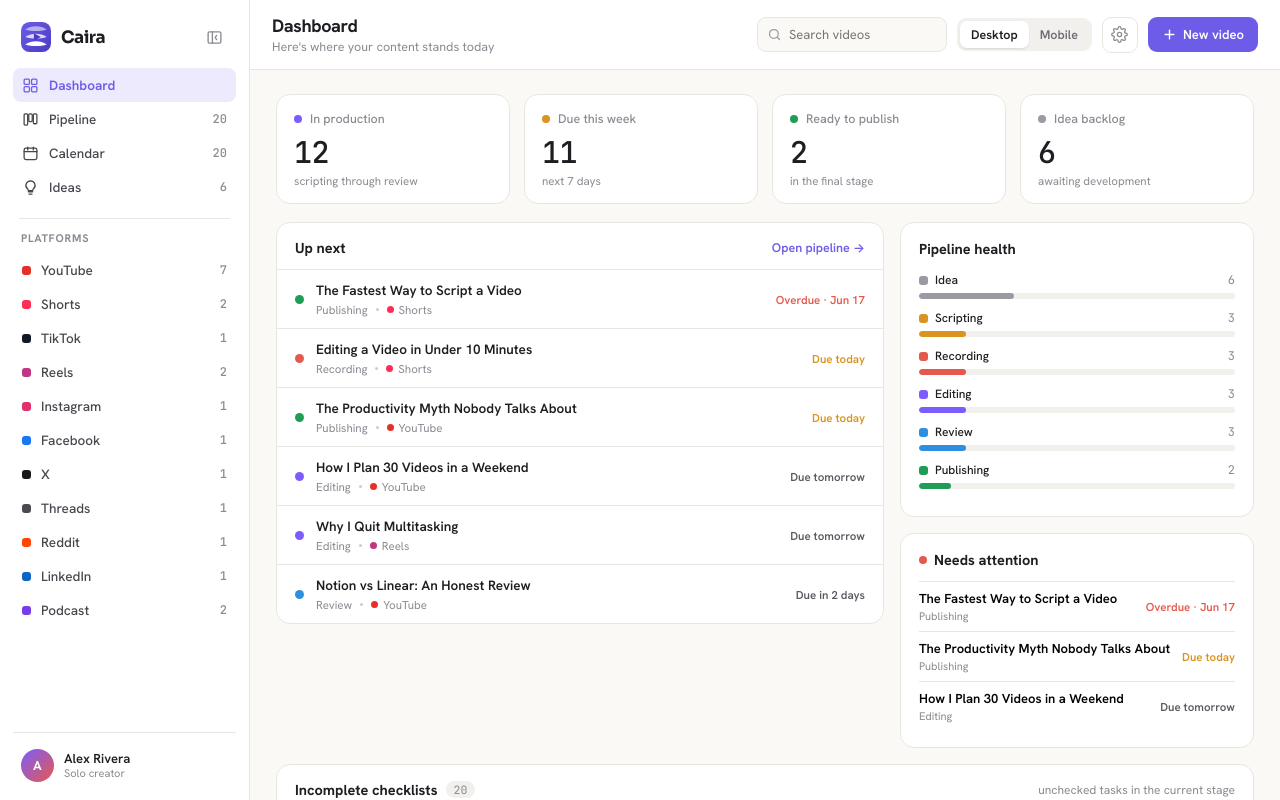
it: a video can be deleted from the detail drawer
Click the button "Ideas 6": (124, 187) top-left (13, 170), bottom-right (236, 204)
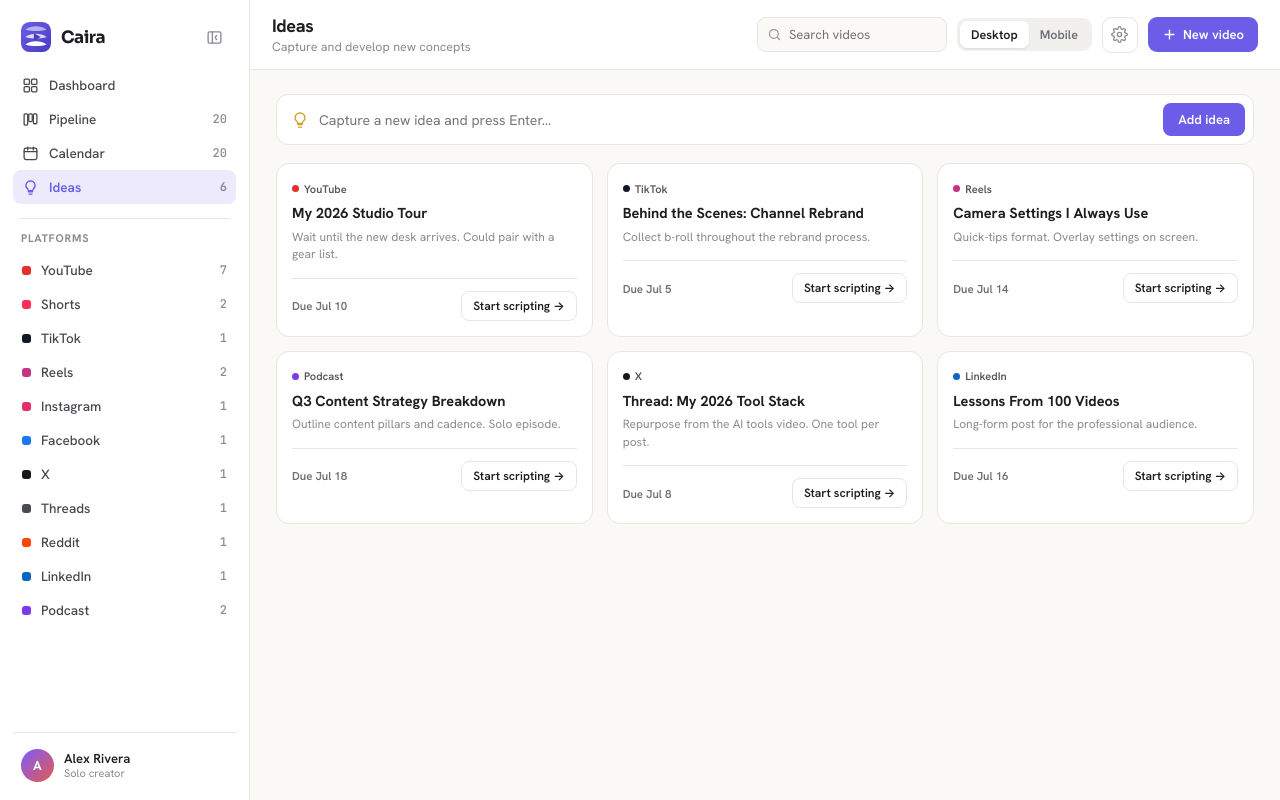
Click the text "My 2026 Studio Tour": (360, 212) top-left (292, 203), bottom-right (428, 222)
(page scrolled)
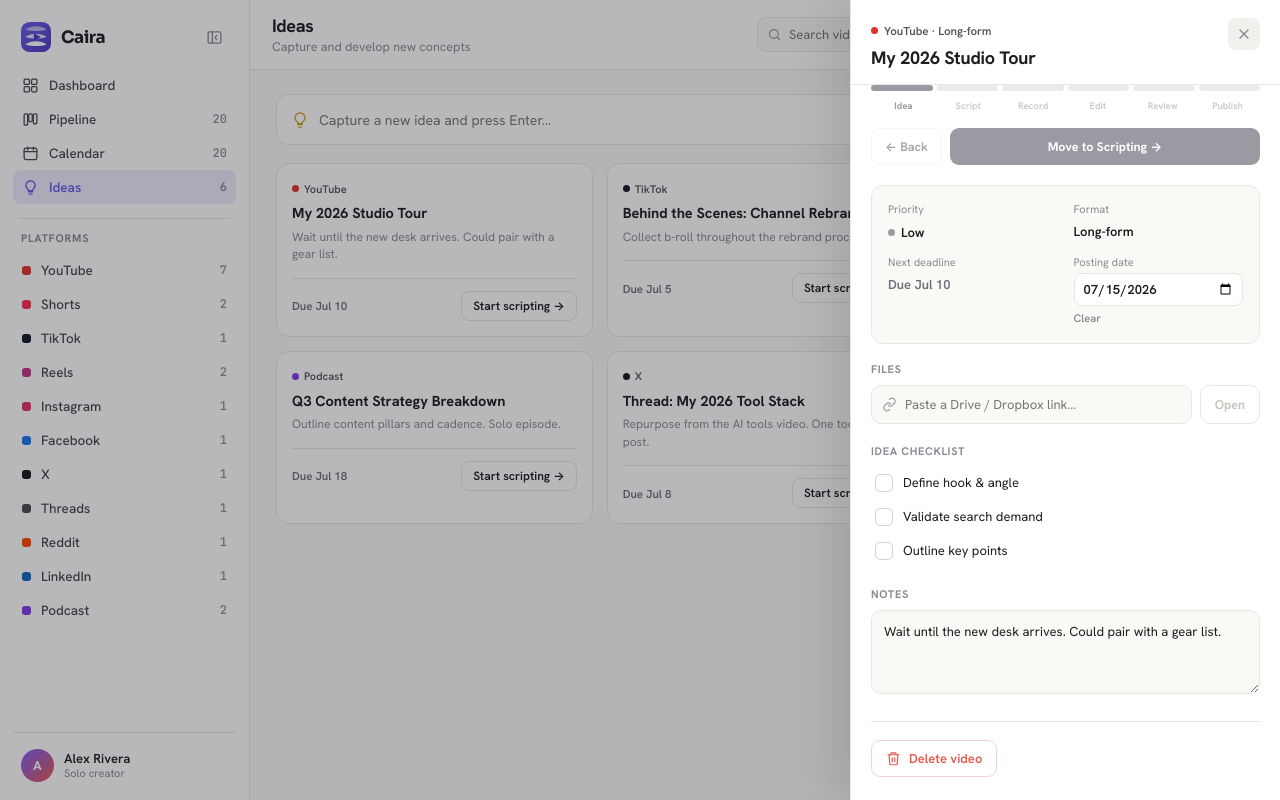
Click the button "Delete video": (934, 758) top-left (871, 740), bottom-right (997, 776)
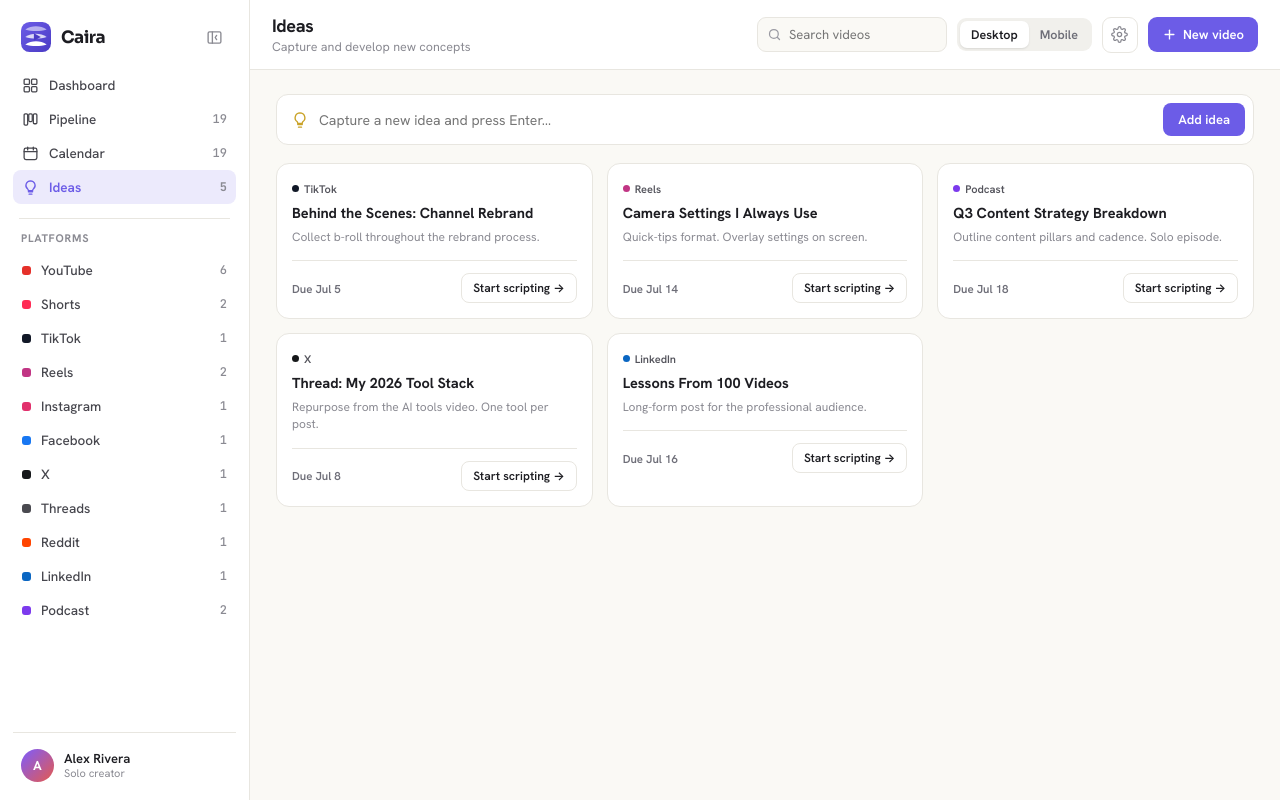
Check: the button "My 2026 Studio Tour" is gone
